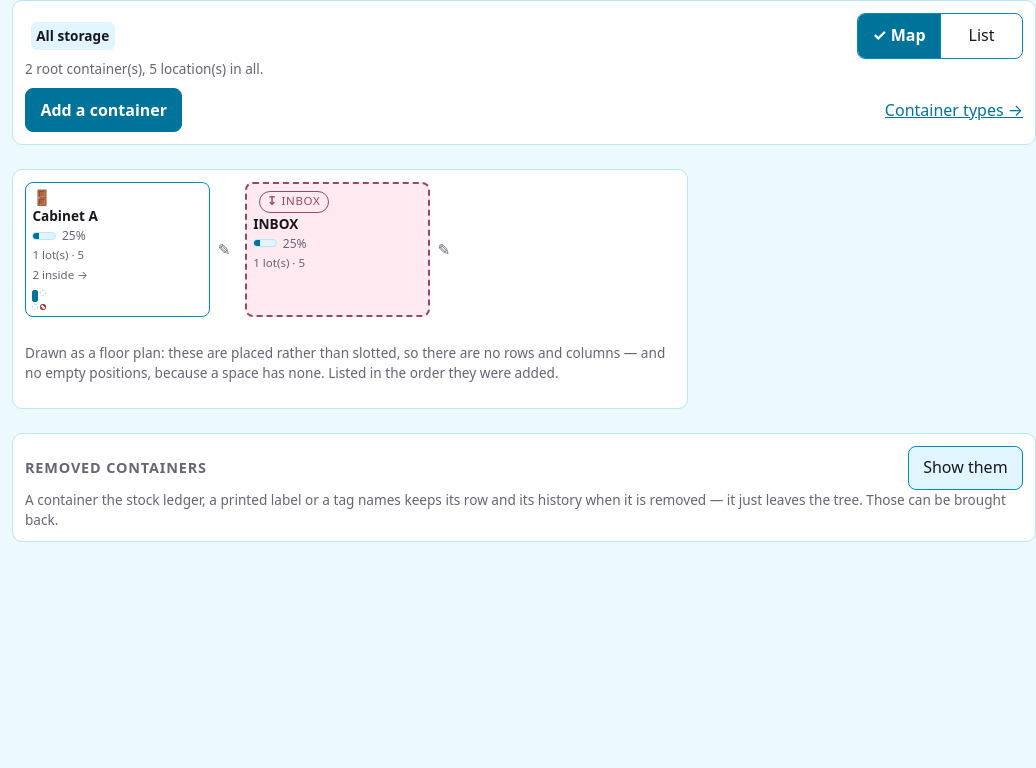
opening a container › opens it on one press of the container itself, with no arrow to find
Click the button "🚪 Cabinet A 25% 1 lot(s) · 5 2 inside →" at point(118, 250), box [25,182,210,317]
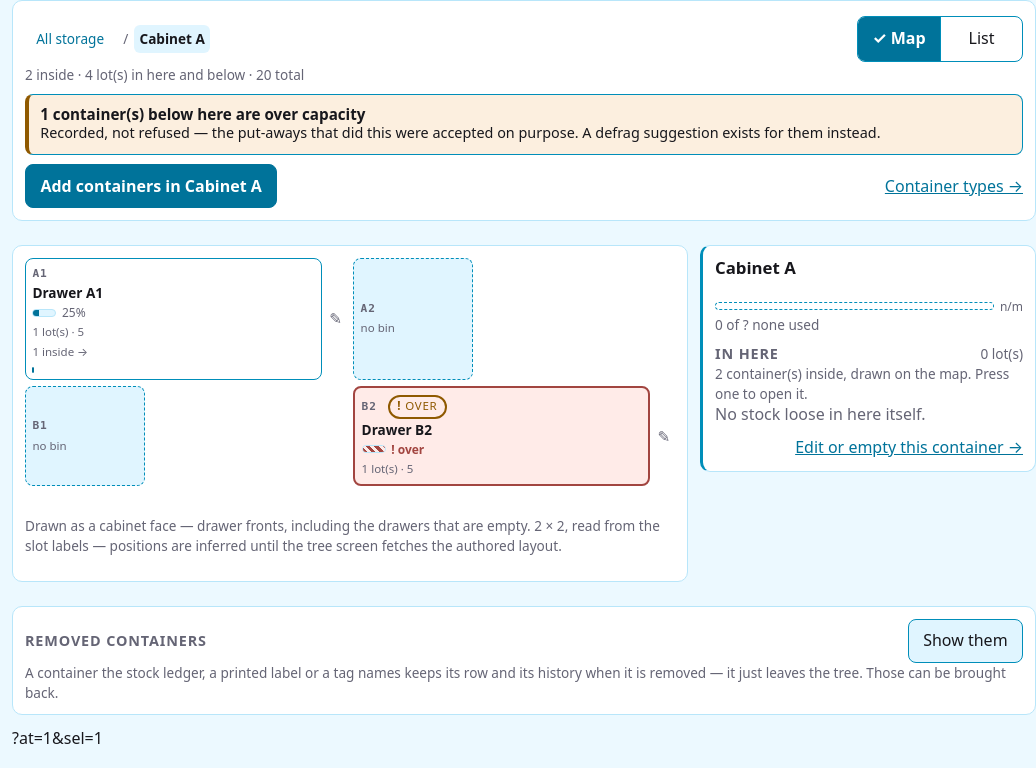
Now the text with test id "url" shows "at=1", box [12,727,103,749]
Now the text with test id "url" shows "sel=1", box [12,727,103,749]
